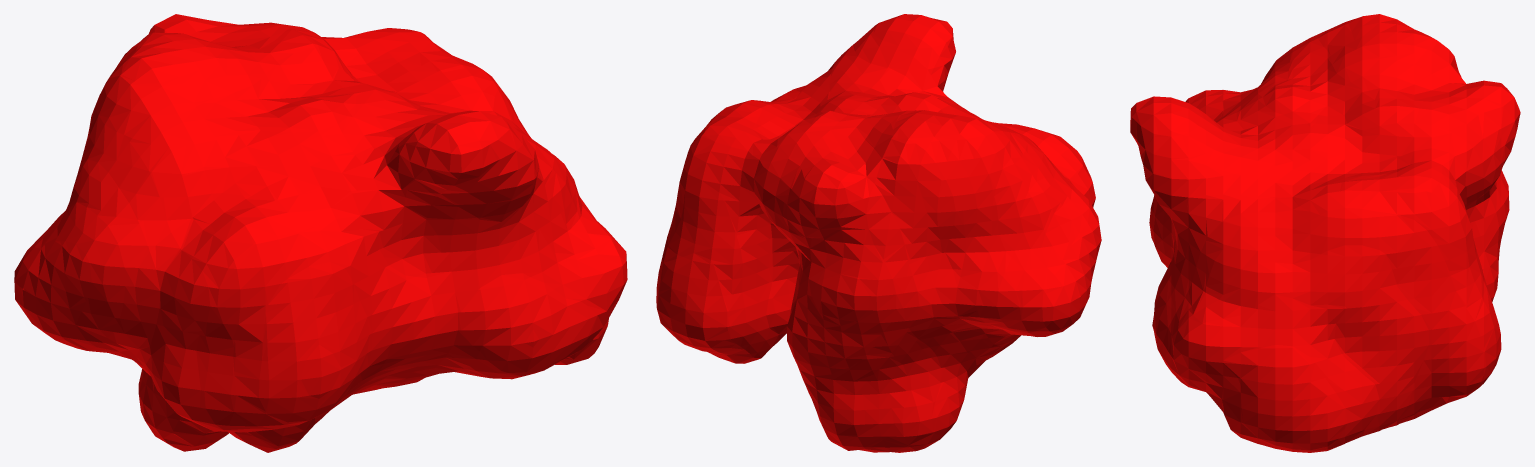
The model's file is cysK_coarse.dae.
3 renders of one model, left to right at view 1: azimuth 30°, elevation 25°; view 2: azimuth 150°, elevation 25°; view 3: azimuth 270°, elevation 25°, orthographic. The views are drawn at different scales.
Parts seen in each view (by area): view 1: cysK; view 2: cysK; view 3: cysK.
Part boxes in pixels (x1,y1,x2,y2): cysK: [14, 14, 627, 452]; cysK: [656, 14, 1101, 452]; cysK: [1130, 14, 1520, 452].
Size of the model in its own units: 64.11 by 47.25 by 48.41.
